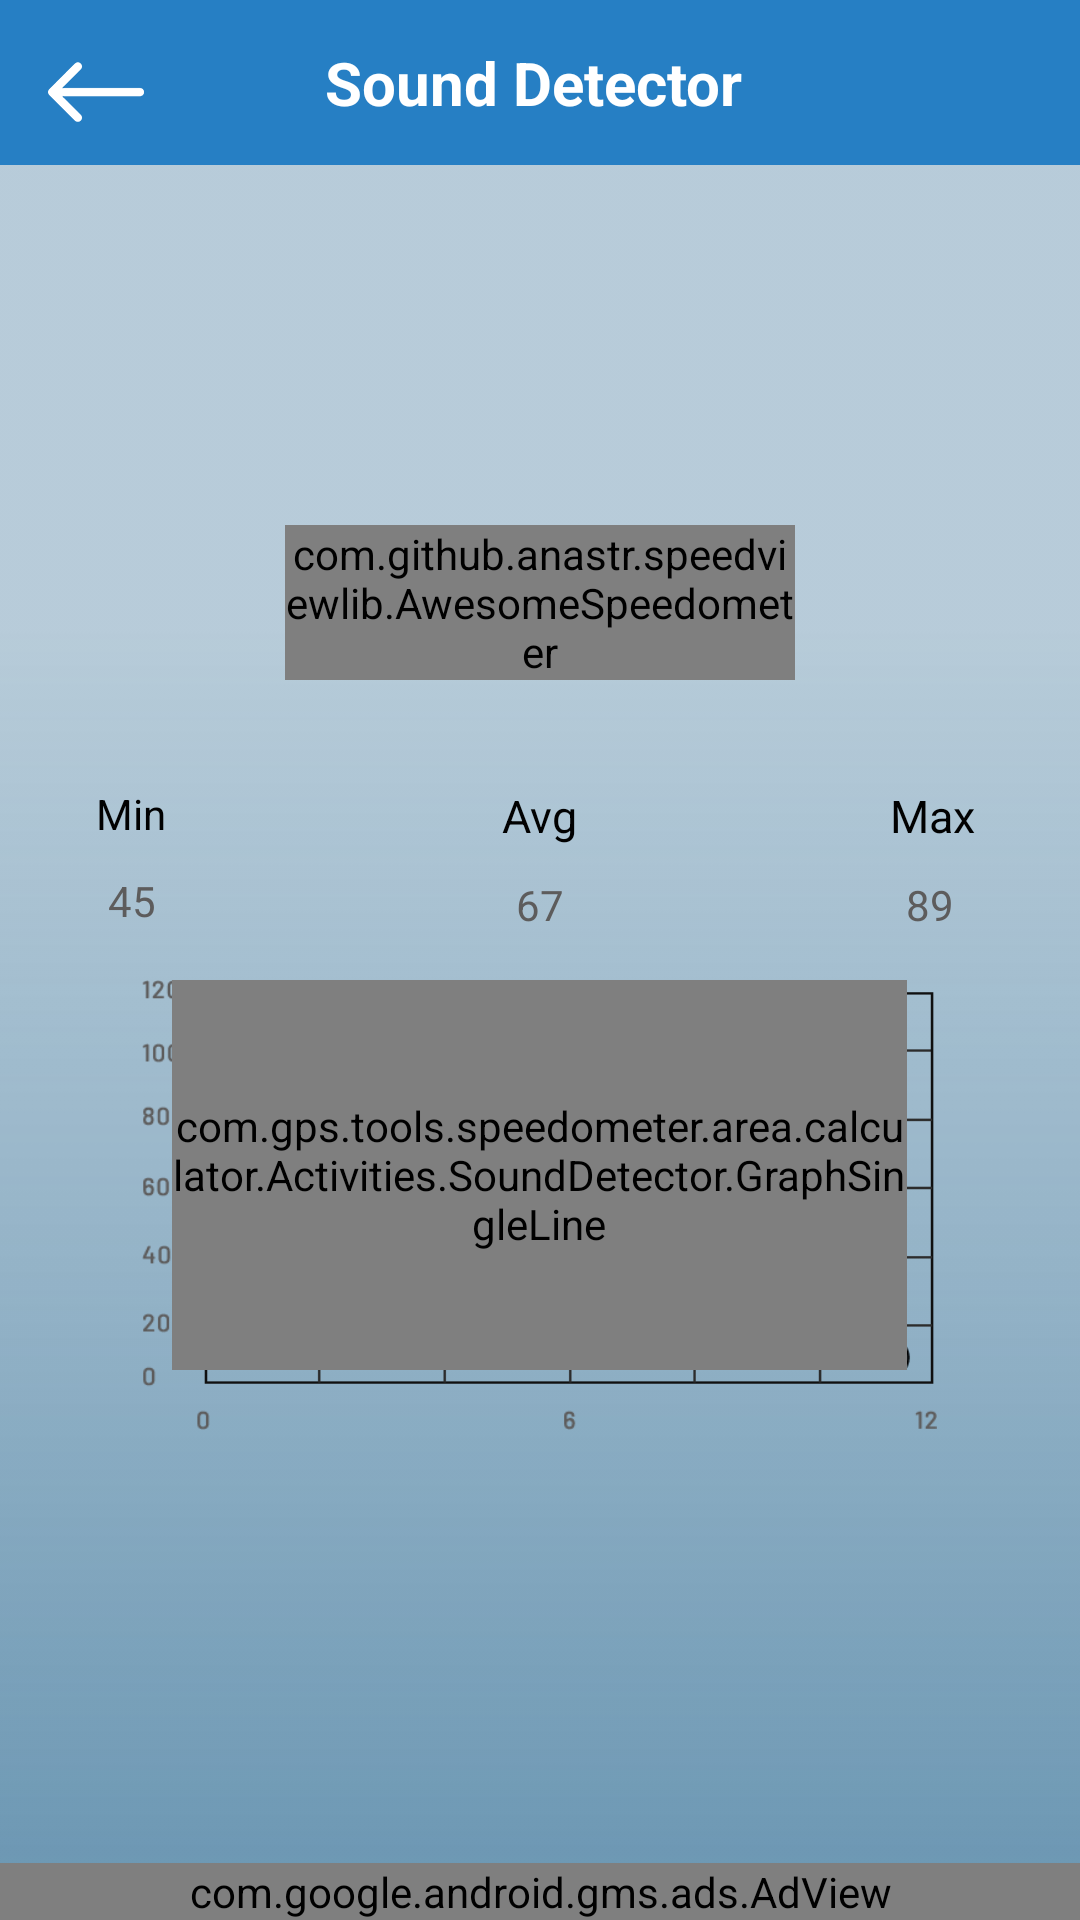

Icons on this 1080w x 1920h Android screen, each with the point to tap as (x=x, y=y):
left arrow: (x=96, y=92)
